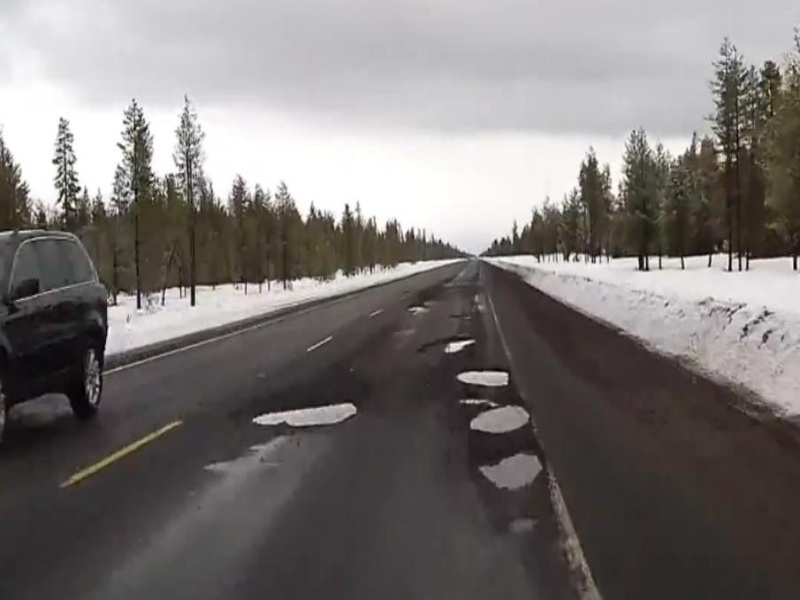pothole: (243, 400, 367, 435), (476, 447, 550, 496), (467, 402, 536, 434), (452, 365, 514, 390)
